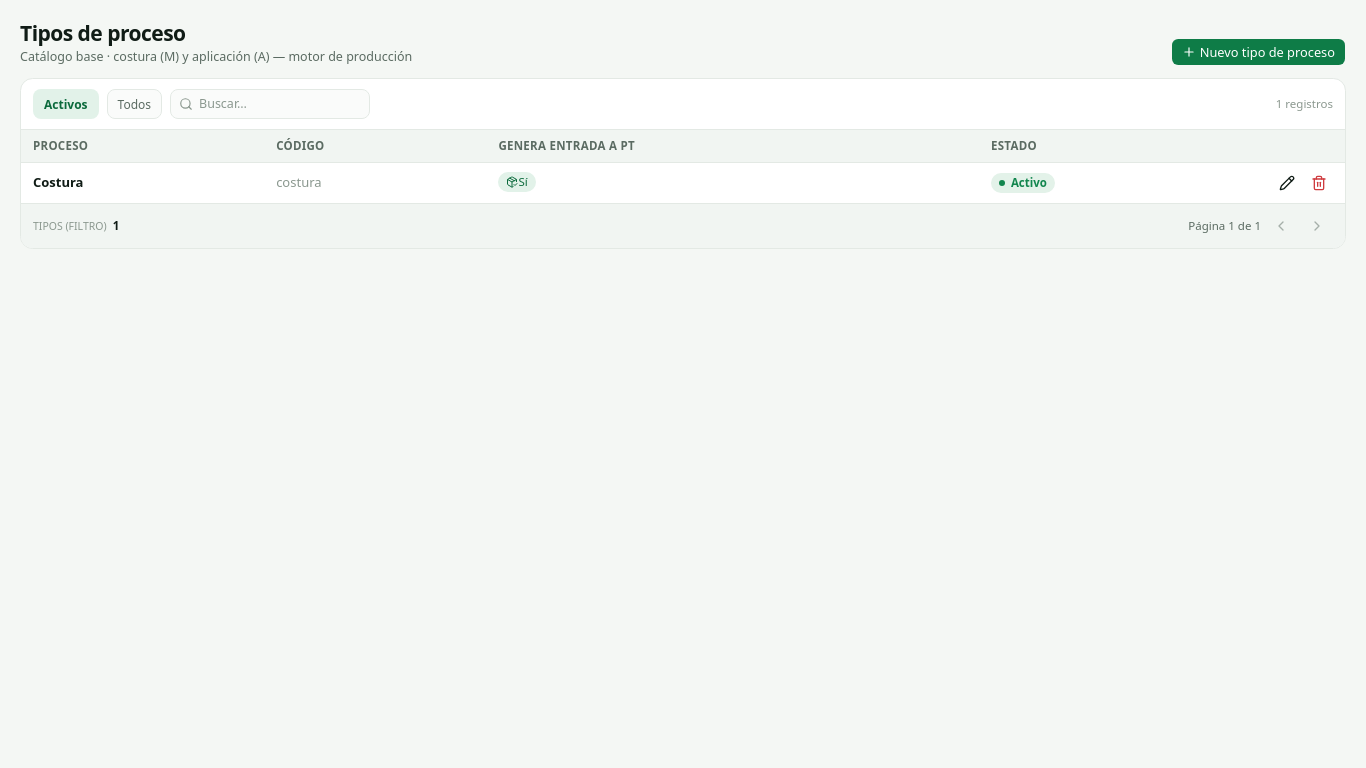
Test: <TiposProcesoPagina> › un ADMIN puede editar la bandera generaEntradaPt en el diálogo
Click the button with test id "nuevo-tipo-proceso".
click(1258, 52)  # box [1171,38,1346,66]
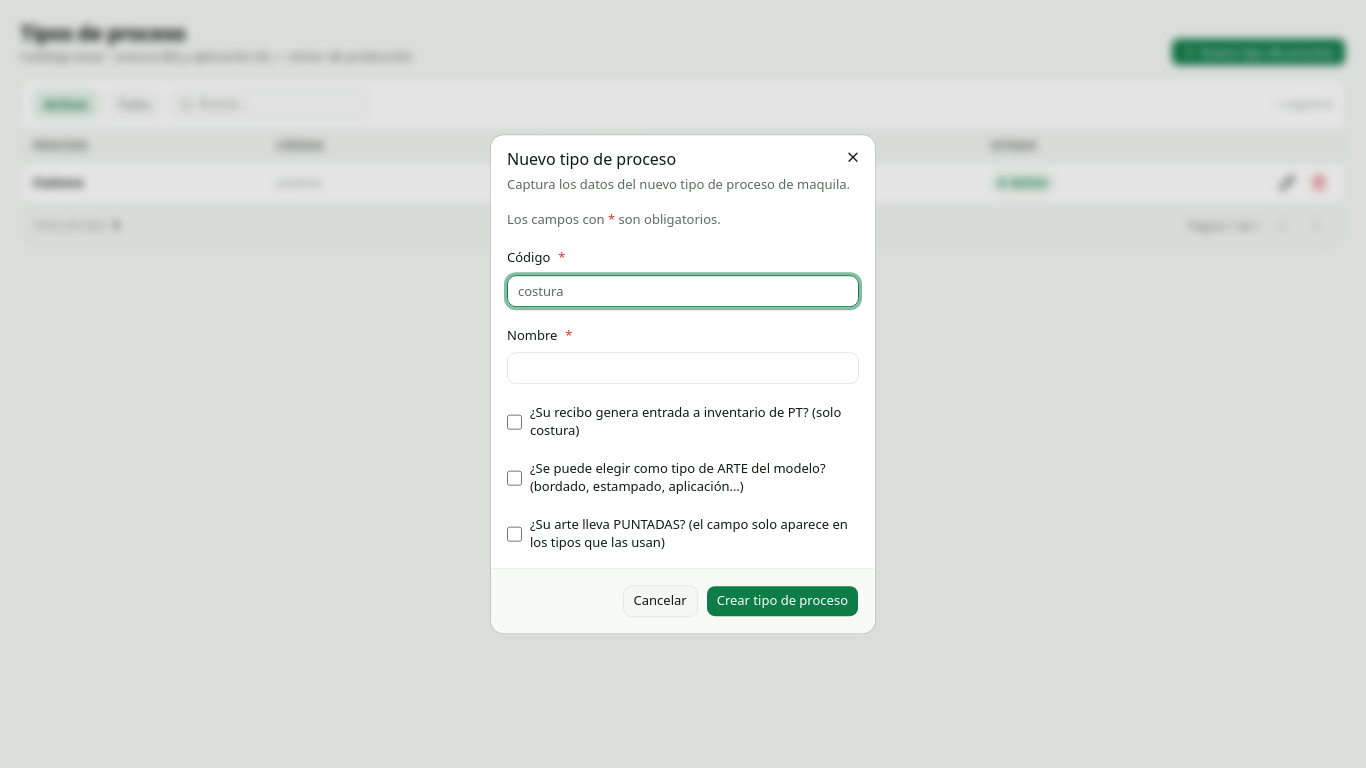
Now the checkbox with test id "tp-genera-entrada" is enabled, box [507,414,522,430]
